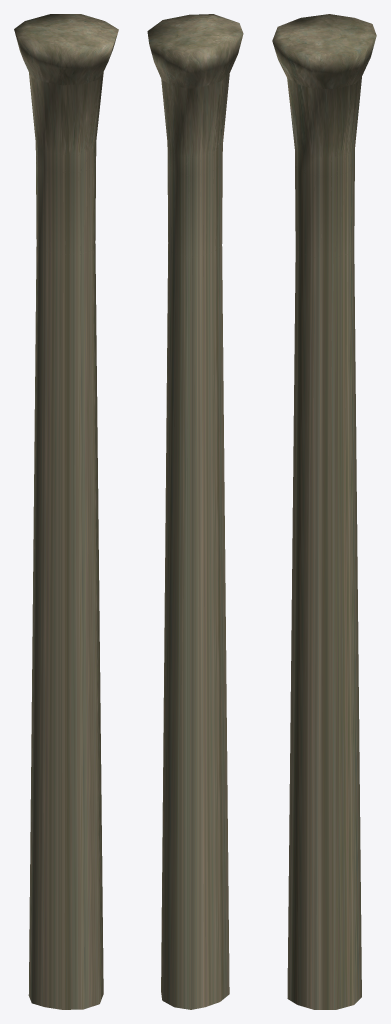
The model's file is OVERHILL_A_01_PLATFORM_13.fbx.
3 views of the same model, side by side, from view 1: azimuth 90°, elevation 25°; view 2: azimuth 150°, elevation 25°; view 3: azimuth 270°, elevation 25° (orthographic).
Visible parts, largest first — view 1: OVERHILL_A_01_PLATFORM_13; view 2: OVERHILL_A_01_PLATFORM_13; view 3: OVERHILL_A_01_PLATFORM_13.
Boxes of the visible parts, left/top/right/bottom form: OVERHILL_A_01_PLATFORM_13: left=14, top=14, right=118, bottom=1009; OVERHILL_A_01_PLATFORM_13: left=147, top=14, right=243, bottom=1009; OVERHILL_A_01_PLATFORM_13: left=272, top=14, right=376, bottom=1009.
Bounding box in the file's own units: 21315 × 254131 × 24942.
Materials: 1 (1 with a texture image).
